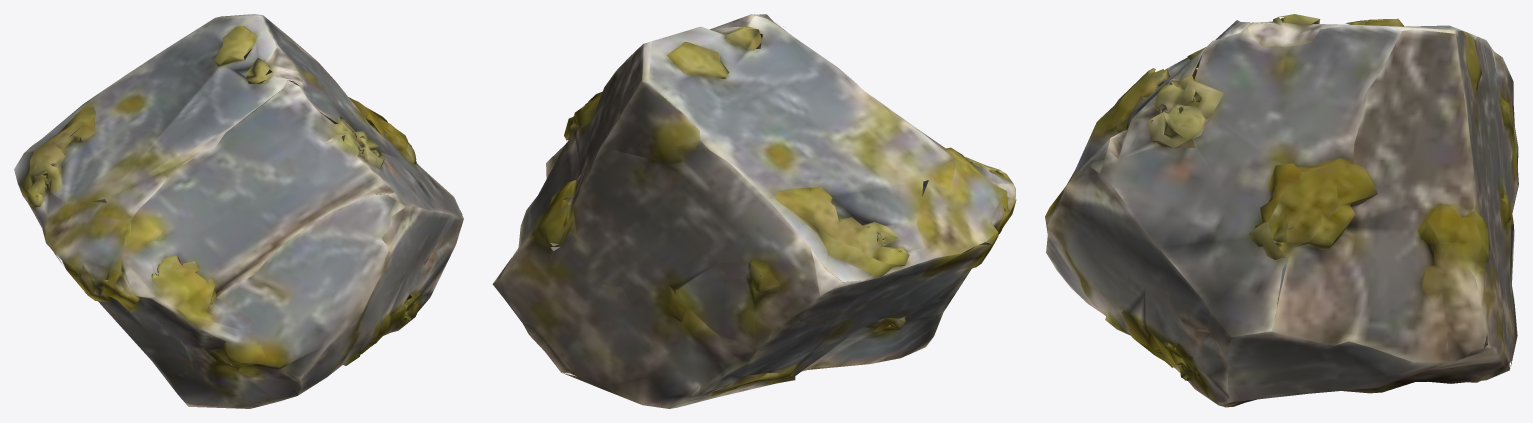
Rendered from roca1.movil.glb.
The picture shows the model from 3 angles, left to right: view 1: azimuth 30°, elevation 25°; view 2: azimuth 150°, elevation 25°; view 3: azimuth 270°, elevation 25°; orthographic projection. The views are drawn at different scales.
Visible parts, largest first — view 1: geometry_0; view 2: geometry_0; view 3: geometry_0.
Boxes of the visible parts, bbox=[...] form: geometry_0: bbox=[14, 14, 463, 408]; geometry_0: bbox=[492, 14, 1016, 408]; geometry_0: bbox=[1045, 14, 1518, 407].
Size of the model in its own units: 1.4 by 1 by 1.2.
1 material, 1 textured.
